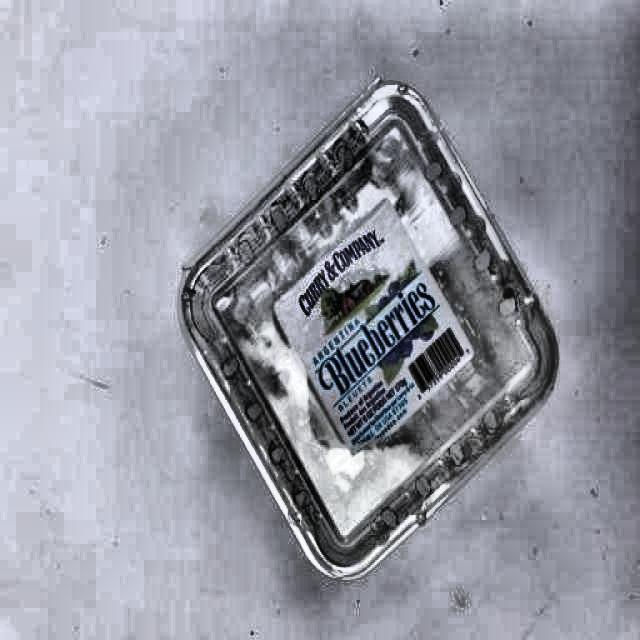plastic: (179, 81, 560, 582)
